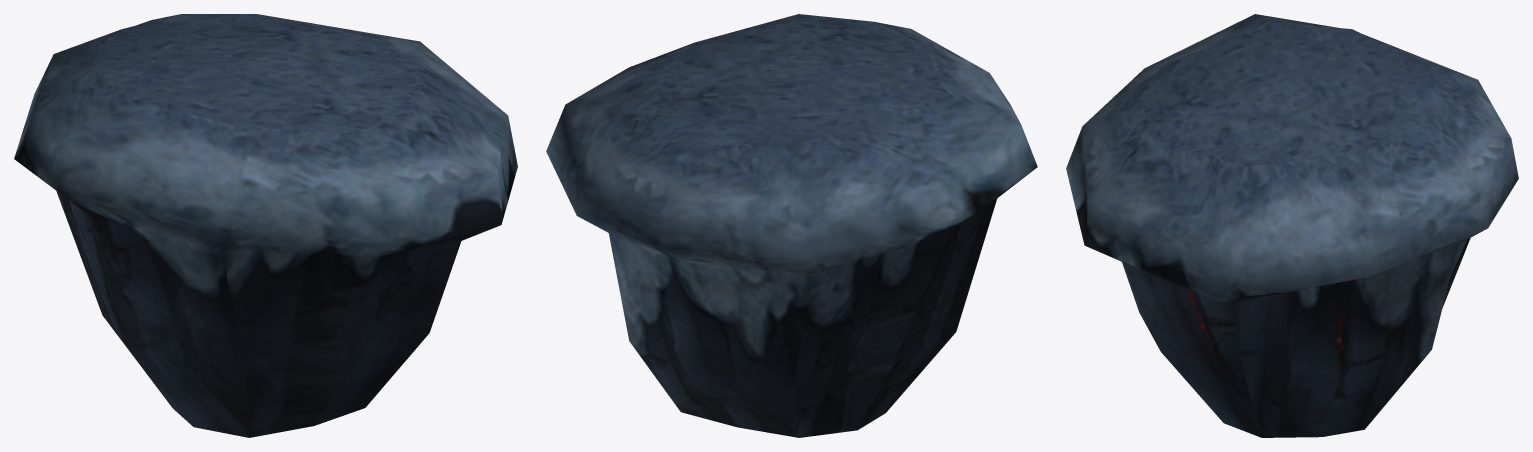
Rendered from Cliff03.FBX.
3 views of the same model, side by side, from view 1: azimuth 30°, elevation 25°; view 2: azimuth 150°, elevation 25°; view 3: azimuth 270°, elevation 25° (orthographic). The views are drawn at different scales.
Visible parts, largest first — view 1: Cliff03; view 2: Cliff03; view 3: Cliff03.
Part boxes in pixels (x1,y1,x2,y2): Cliff03: (14, 14, 517, 437); Cliff03: (546, 14, 1037, 437); Cliff03: (1066, 14, 1518, 437).
Bounding box in the file's own units: 481 × 358 × 472.
